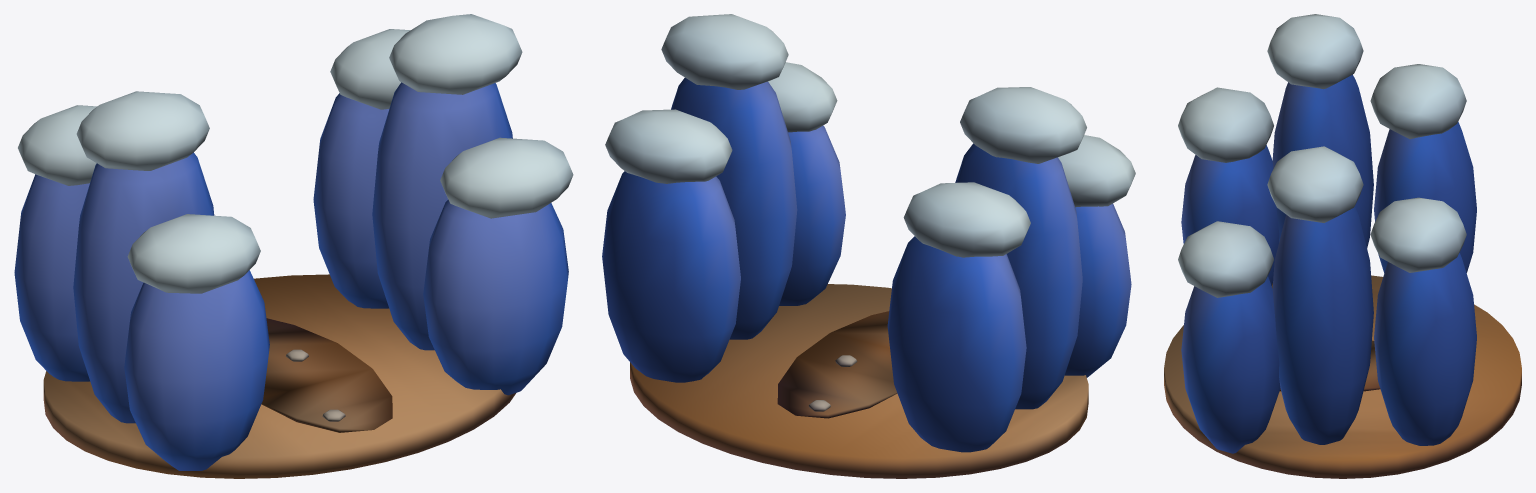
Rendered from redsea.glb.
The picture shows the model from 3 angles, left to right: view 1: azimuth 30°, elevation 25°; view 2: azimuth 150°, elevation 25°; view 3: azimuth 270°, elevation 25°; orthographic projection. The views are drawn at different scales.
Visible parts, largest first — view 1: redsea; view 2: redsea; view 3: redsea.
Part boxes in pixels (bbox=[...]): redsea: bbox=[14, 14, 573, 478]; redsea: bbox=[602, 14, 1135, 478]; redsea: bbox=[1164, 14, 1521, 478].
Size of the model in its own units: 6.4 by 4.75 by 5.2.
